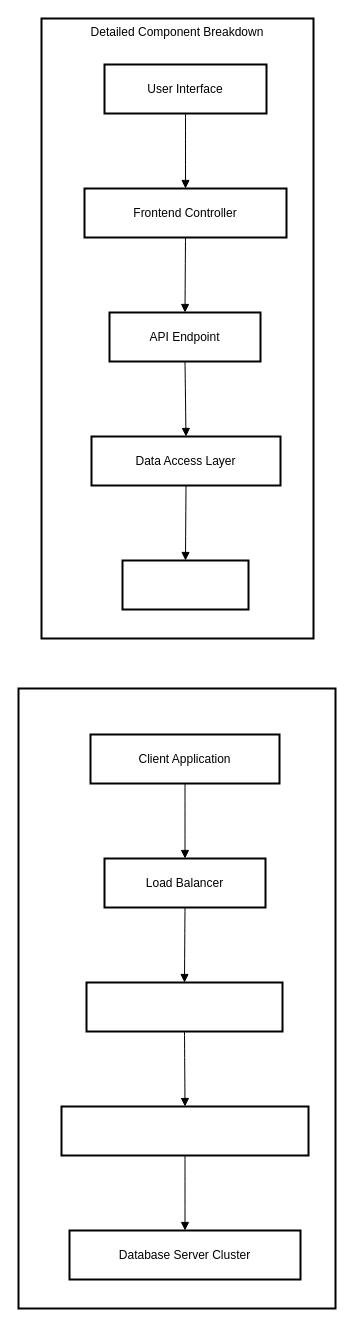
Image size: 353x1326. Some labels were removed from this diagram. Here are the shapes that lost their labels. From the top down, the box of each, then its label:
(121, 559, 249, 610): Database
(17, 687, 336, 1309): High Level Architecture
(85, 981, 283, 1032): Web Server Cluster
(60, 1105, 309, 1156): Application Server Cluster
